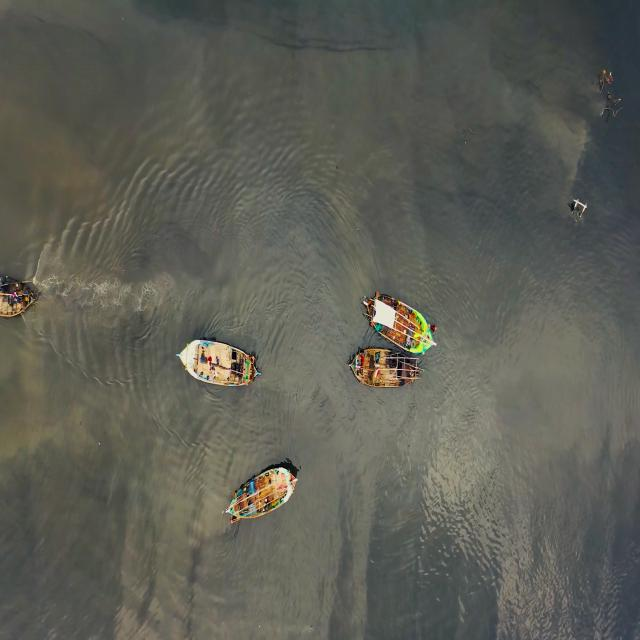ship: (361, 288, 433, 360), (222, 460, 301, 525), (173, 334, 261, 384), (344, 351, 420, 392), (1, 262, 42, 330)
